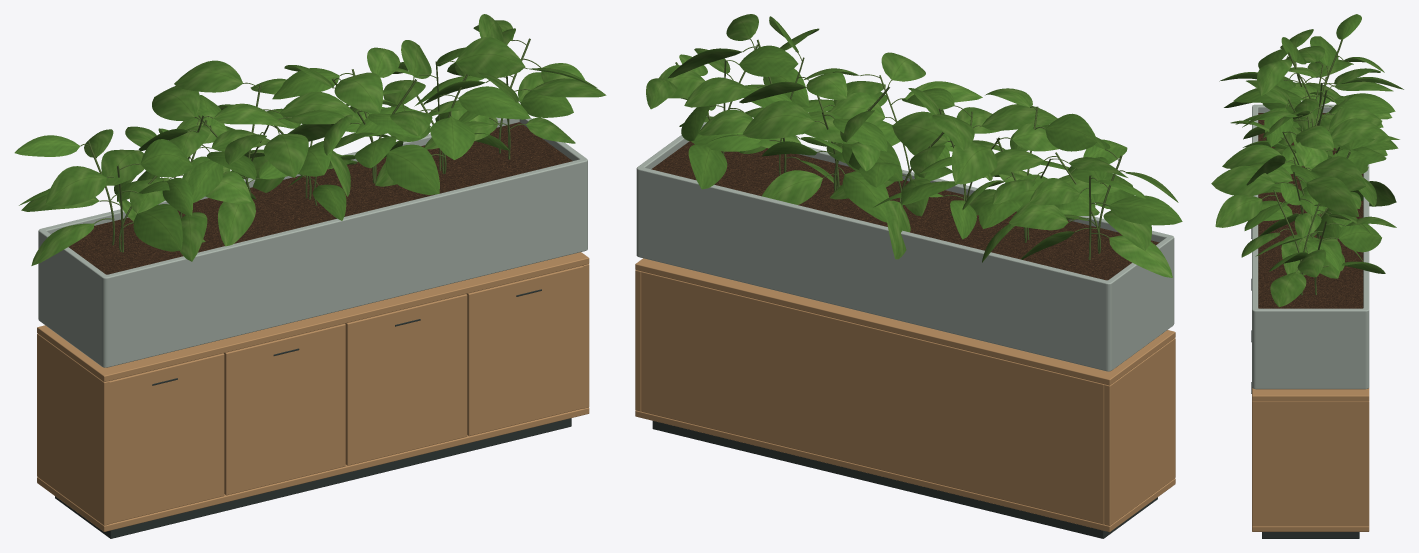
Rendered from botanicalDivider-8.glb.
3 renders of one model, left to right at view 1: azimuth 30°, elevation 25°; view 2: azimuth 150°, elevation 25°; view 3: azimuth 270°, elevation 25°, orthographic. The views are drawn at different scales.
Parts seen in each view (by area): view 1: StoragePlanter_Door (×4), Planter_pothos_leaves, Planter_oiled_oak, Planter_loose_soil, StoragePlanter_Side (×2), StoragePlanter_Top, StoragePlanter_Plinth, StoragePlanter_Bottom, Planter_pothos_stems, Planter_matte_accent; view 2: StoragePlanter_Back, Planter_pothos_leaves, Planter_oiled_oak, Planter_loose_soil, StoragePlanter_Side (×2), StoragePlanter_Top, StoragePlanter_Plinth, StoragePlanter_Bottom, Planter_pothos_stems, Planter_matte_accent; view 3: Planter_pothos_leaves, StoragePlanter_Side, Planter_oiled_oak, Planter_loose_soil, Planter_pothos_stems, StoragePlanter_Top, StoragePlanter_Bottom, StoragePlanter_Plinth.
Part boxes in pixels (x1,y1,x2,y2): StoragePlanter_Door (×4): (105, 265, 586, 523); Planter_pothos_leaves: (14, 14, 606, 265); Planter_oiled_oak: (38, 117, 587, 367); Planter_loose_soil: (68, 122, 572, 274); StoragePlanter_Side (×2): (37, 264, 589, 525); StoragePlanter_Top: (37, 252, 589, 381); StoragePlanter_Plinth: (55, 418, 571, 538); StoragePlanter_Bottom: (37, 407, 589, 531); Planter_pothos_stems: (80, 38, 541, 252); Planter_matte_accent: (112, 289, 331, 349); StoragePlanter_Back: (641, 271, 1104, 524); Planter_pothos_leaves: (646, 14, 1182, 277); Planter_oiled_oak: (636, 122, 1174, 371); Planter_loose_soil: (651, 141, 1159, 280); StoragePlanter_Side (×2): (635, 270, 1175, 525); StoragePlanter_Top: (635, 258, 1175, 385); StoragePlanter_Plinth: (652, 421, 1157, 538); StoragePlanter_Bottom: (635, 410, 1175, 532); Planter_pothos_stems: (675, 39, 1125, 259); Planter_matte_accent: (643, 229, 1081, 347); Planter_pothos_leaves: (1211, 14, 1403, 307); StoragePlanter_Side: (1252, 401, 1369, 526); Planter_oiled_oak: (1252, 104, 1369, 389); Planter_loose_soil: (1258, 113, 1363, 308); Planter_pothos_stems: (1262, 39, 1350, 295); StoragePlanter_Top: (1252, 387, 1369, 401); StoragePlanter_Bottom: (1252, 526, 1369, 531); StoragePlanter_Plinth: (1262, 532, 1359, 538).
Bounding box in the file's own units: 2.26 × 1.58 × 0.7924.
9 materials, 2 textured.
